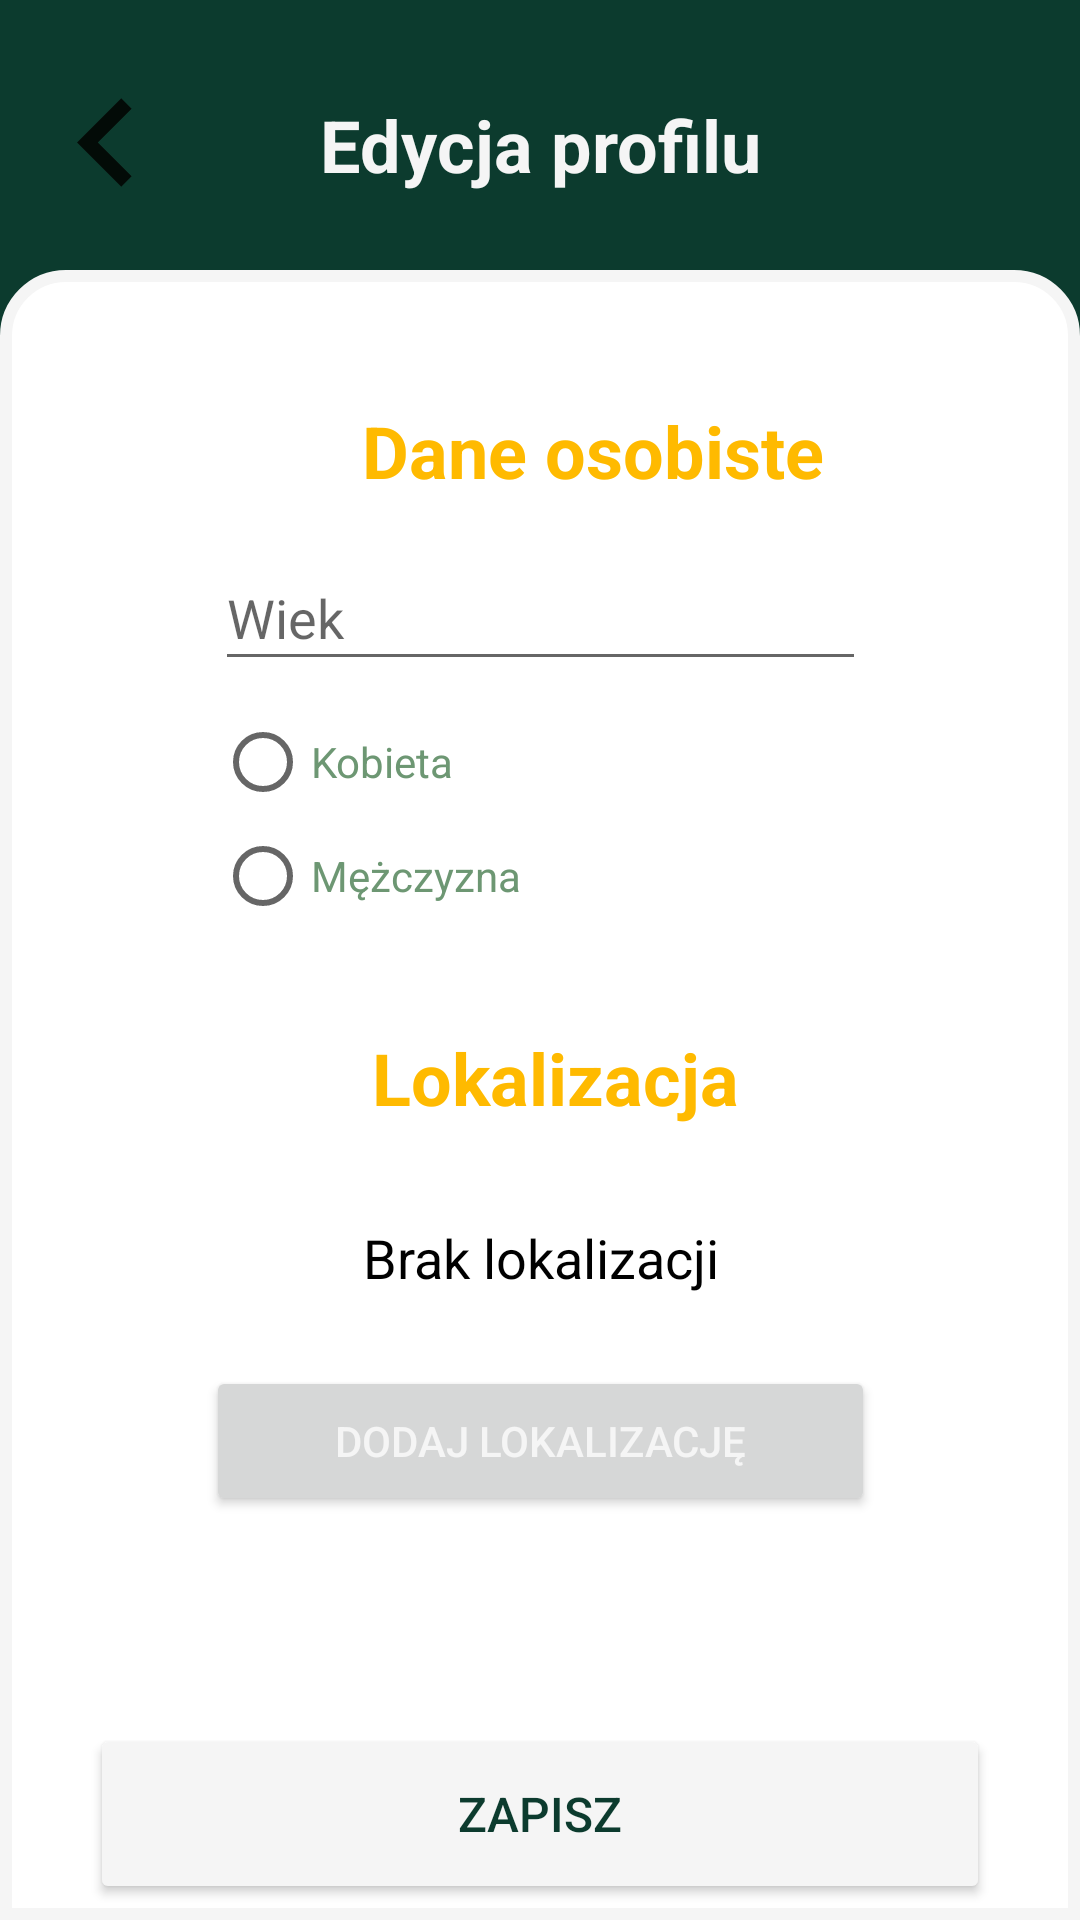

Where to tap for icons on this 1080×1920 app screen, as (x=x, y=y):
chevron left: (x=104, y=142)
